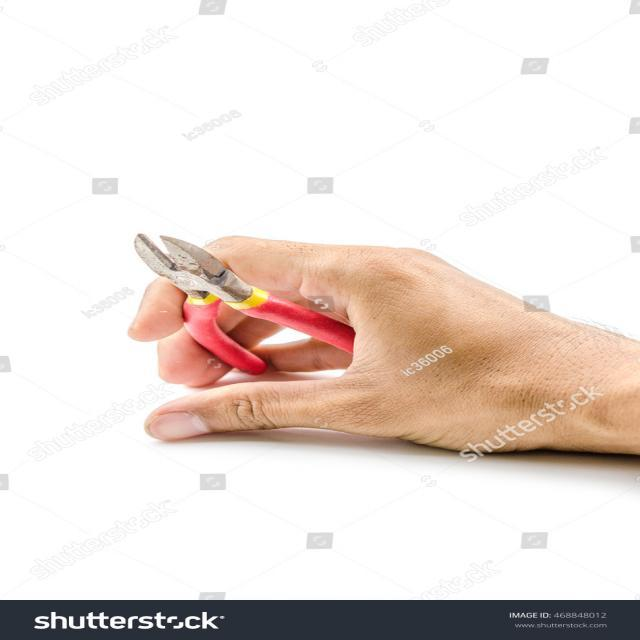pliers: (126, 229, 364, 376)
